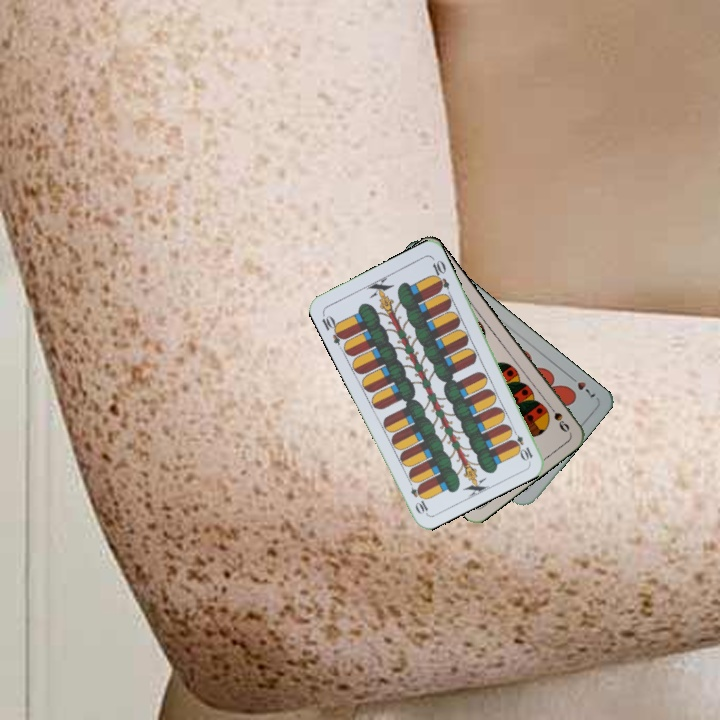E10: (318, 309, 348, 347), (507, 425, 535, 463)
H7: (564, 371, 598, 400)
S9: (543, 399, 572, 435)
